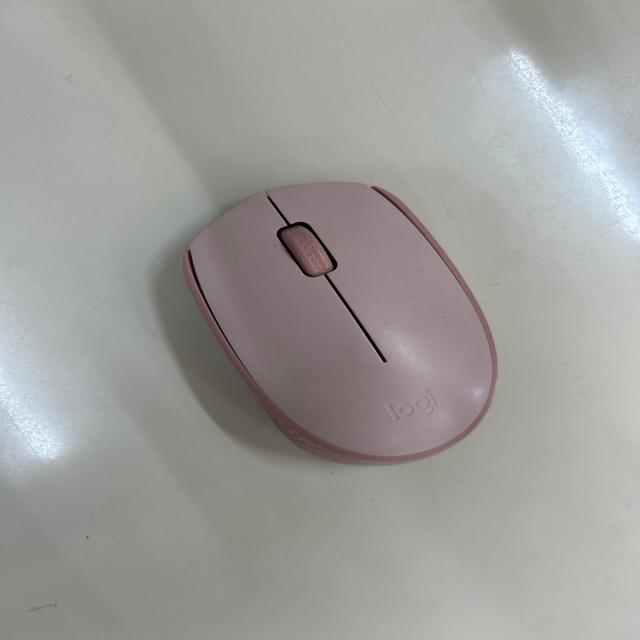inorganic: (180, 179, 500, 466)
